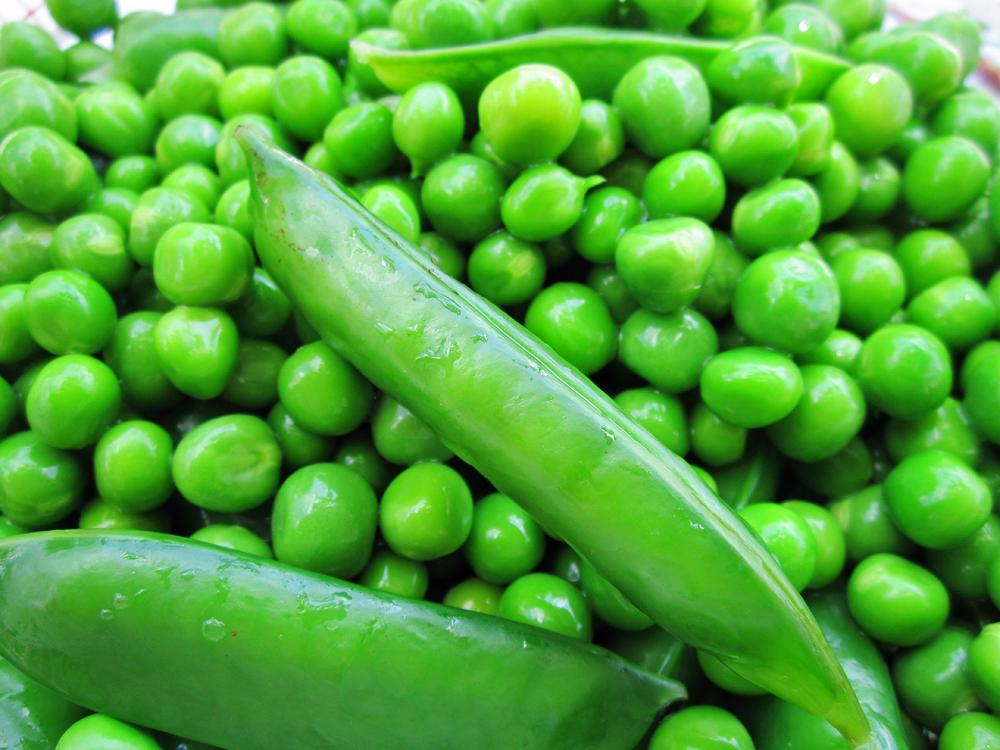peas: (0, 0, 999, 748), (731, 247, 840, 353), (476, 61, 582, 167), (882, 448, 992, 549), (171, 412, 281, 512), (613, 215, 715, 313), (378, 460, 473, 561), (698, 344, 803, 428), (151, 220, 253, 305), (825, 61, 912, 156), (152, 304, 238, 399)
